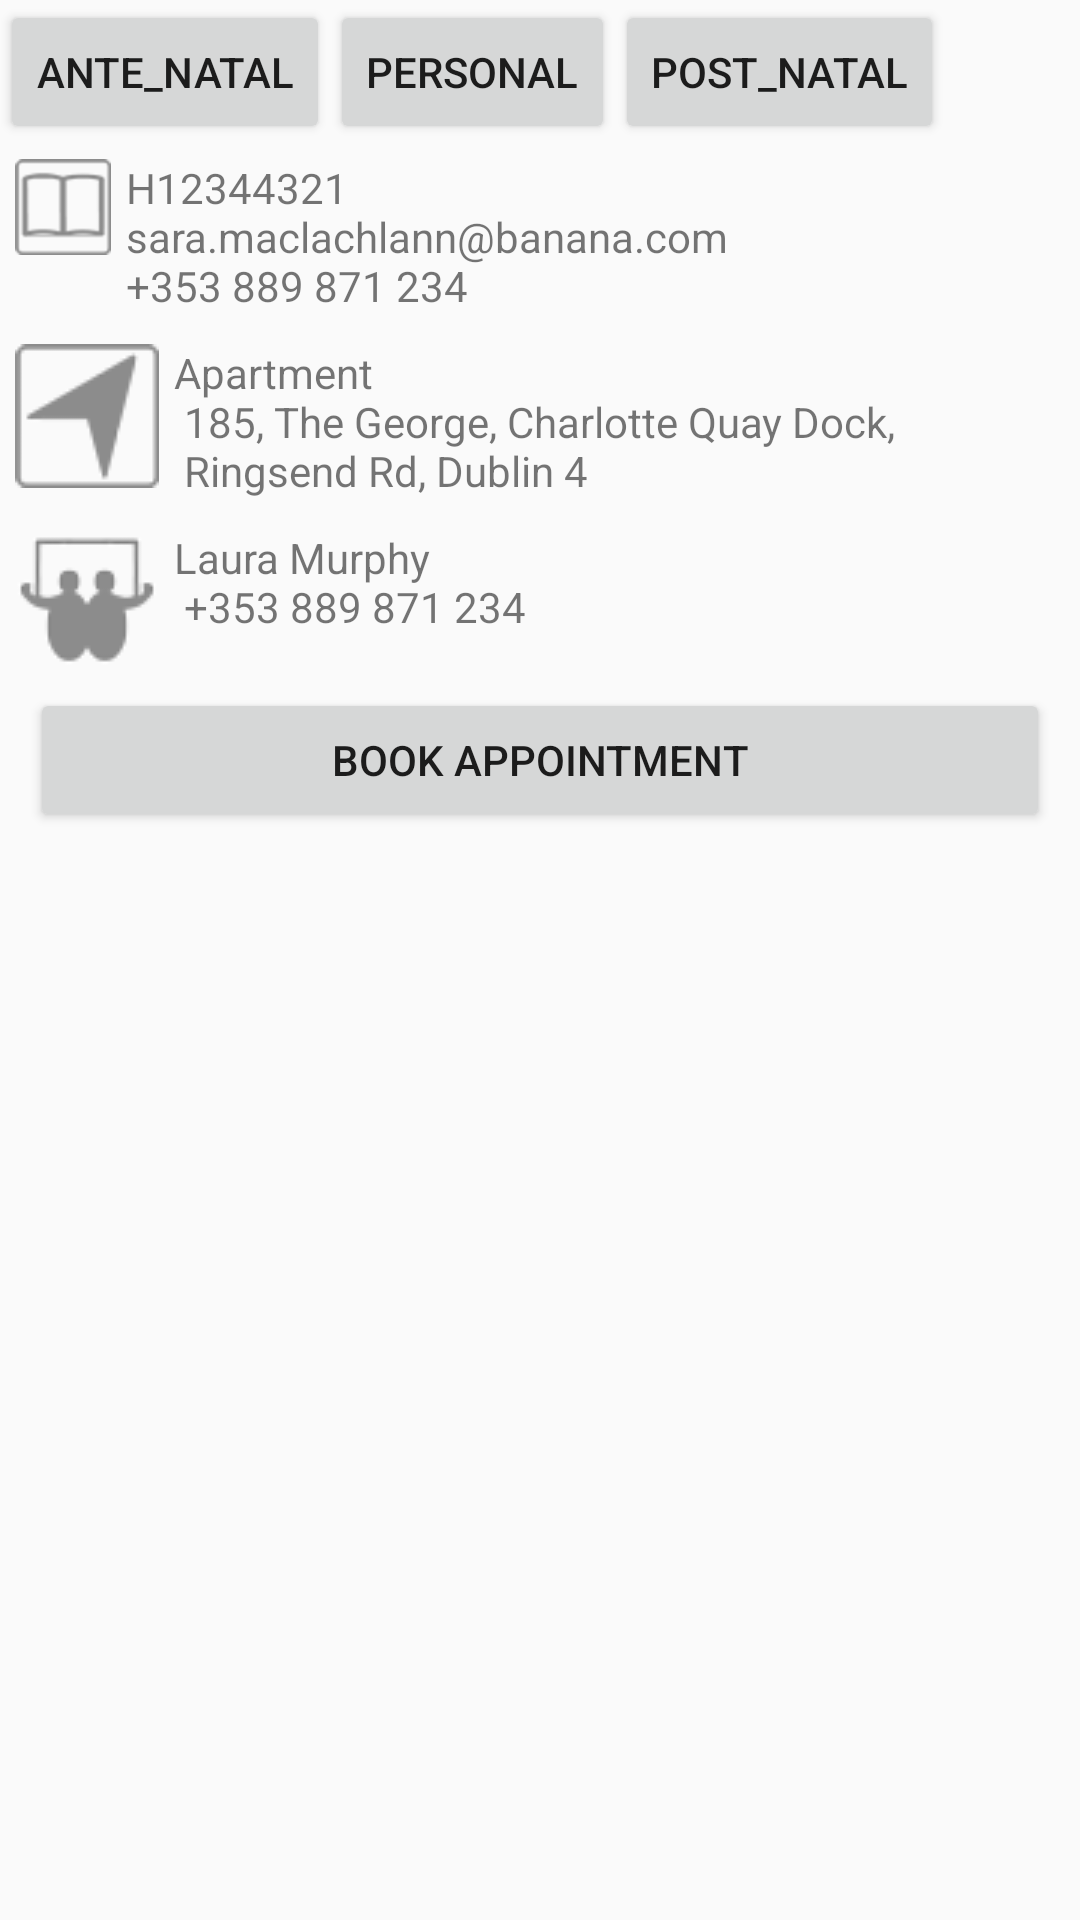

Screen size 1080w x 1920h. Icon name, then its center in pixels as (x,y):
contact: (63,207)
direction hint: (87,416)
nextofkin: (87,600)
